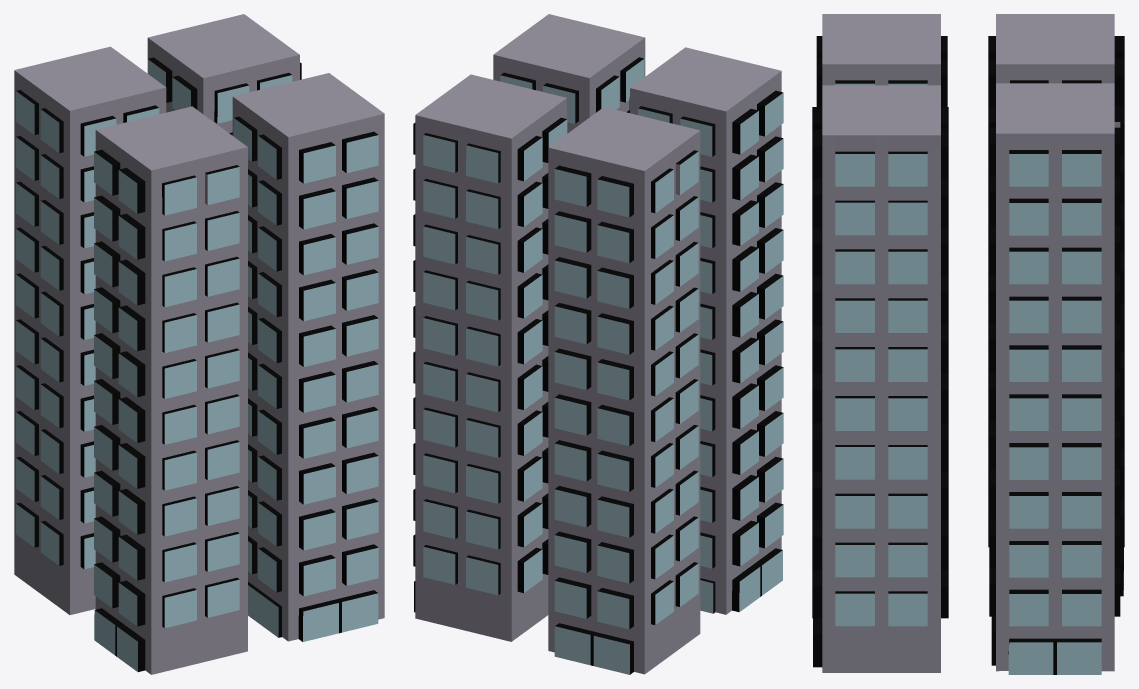
Rendered from residential.glb.
3 renders of one model, left to right at view 1: azimuth 30°, elevation 25°; view 2: azimuth 150°, elevation 25°; view 3: azimuth 270°, elevation 25°, orthographic. The views are drawn at different scales.
Visible parts, largest first — view 1: Cube.003; view 2: Cube.003; view 3: Cube.003.
Boxes of the visible parts, x1,y1,x2,y2 form: Cube.003: (14, 14, 384, 674); Cube.003: (413, 14, 783, 674); Cube.003: (812, 14, 1124, 674).
Bounding box in the file's own units: 7.72 × 15.12 × 7.96.
